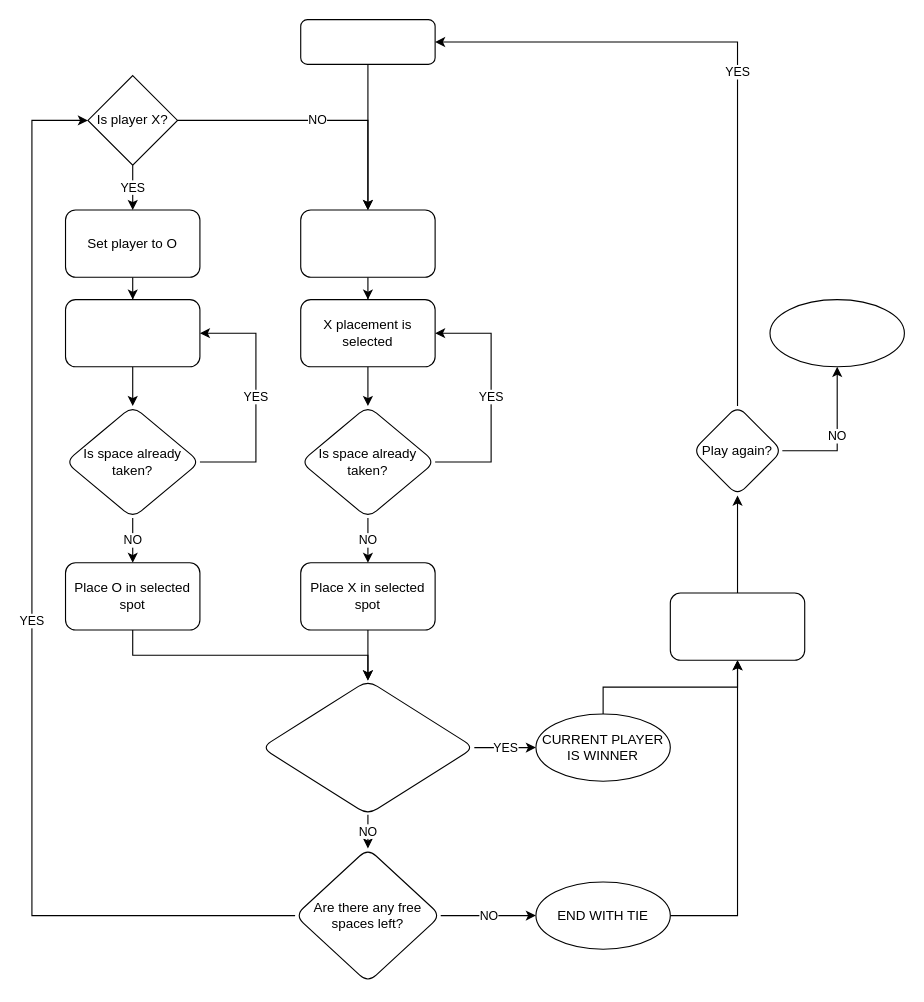
Some shapes in this 924 by 1002 pixel diagram are drawn without their labels. The shapes that lost their labels are listed below. From the top down, each one's centre as x and y in pixels, then its label:
At (367,41): "Create gameboard".
At (367,243): "Set player to X".
At (132,332): "O Placement is selected".
At (836,332): "HAVE A GREAT DAY".
At (737,626): "Turn off game board".
At (367,747): "Does that move win Tic-Tac-Toe?".
